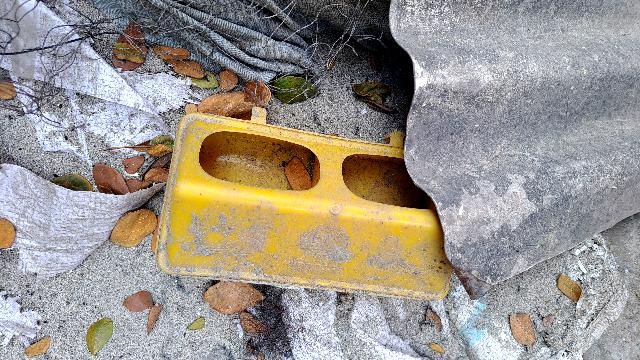hardplastic: (165, 101, 457, 297)
